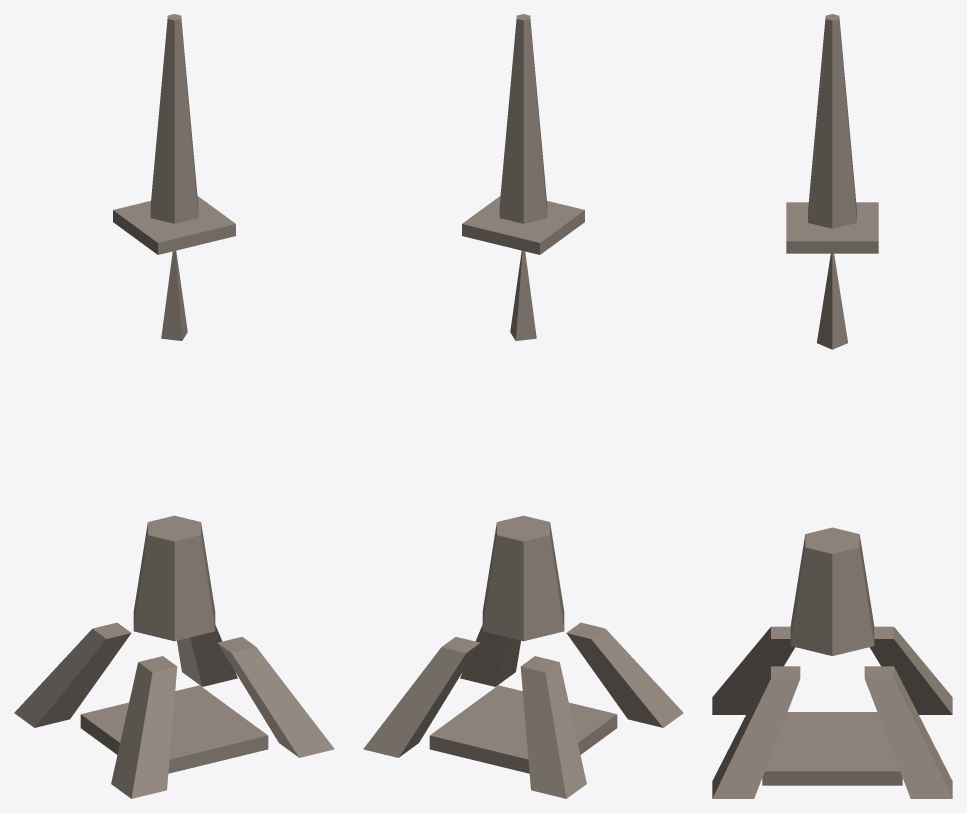
The picture shows the model from 3 angles, left to right: view 1: azimuth 30°, elevation 25°; view 2: azimuth 150°, elevation 25°; view 3: azimuth 270°, elevation 25°; orthographic projection. The views are drawn at different scales.
Parts seen in each view (by area): view 1: part5, part4, part7, part3, part1, part2, part6, part0, part8; view 2: part5, part4, part7, part2, part0, part3, part6, part1, part8; view 3: part4, part5, part7, part0, part1, part6, part2, part3, part8.
Part boxes in pixels (bbox=[...]): part5: bbox=[133, 515, 215, 641]; part4: bbox=[80, 685, 268, 773]; part7: bbox=[150, 14, 198, 223]; part3: bbox=[111, 656, 177, 798]; part1: bbox=[217, 637, 334, 757]; part2: bbox=[14, 622, 131, 727]; part6: bbox=[113, 196, 235, 254]; part0: bbox=[177, 625, 237, 686]; part8: bbox=[161, 250, 187, 340]; part5: bbox=[482, 515, 564, 641]; part4: bbox=[429, 685, 617, 773]; part7: bbox=[499, 14, 547, 223]; part2: bbox=[520, 656, 586, 798]; part0: bbox=[363, 637, 480, 757]; part3: bbox=[566, 622, 683, 727]; part6: bbox=[462, 196, 584, 254]; part1: bbox=[460, 625, 520, 686]; part8: bbox=[510, 250, 536, 340]; part4: bbox=[762, 712, 902, 785]; part5: bbox=[790, 527, 874, 655]; part7: bbox=[808, 14, 856, 228]; part0: bbox=[864, 666, 952, 798]; part1: bbox=[712, 666, 800, 798]; part6: bbox=[786, 202, 878, 253]; part2: bbox=[869, 626, 952, 714]; part3: bbox=[712, 626, 795, 714]; part8: bbox=[817, 253, 847, 349].
Size of the model in its own units: 2.29 by 7.77 by 2.29.
